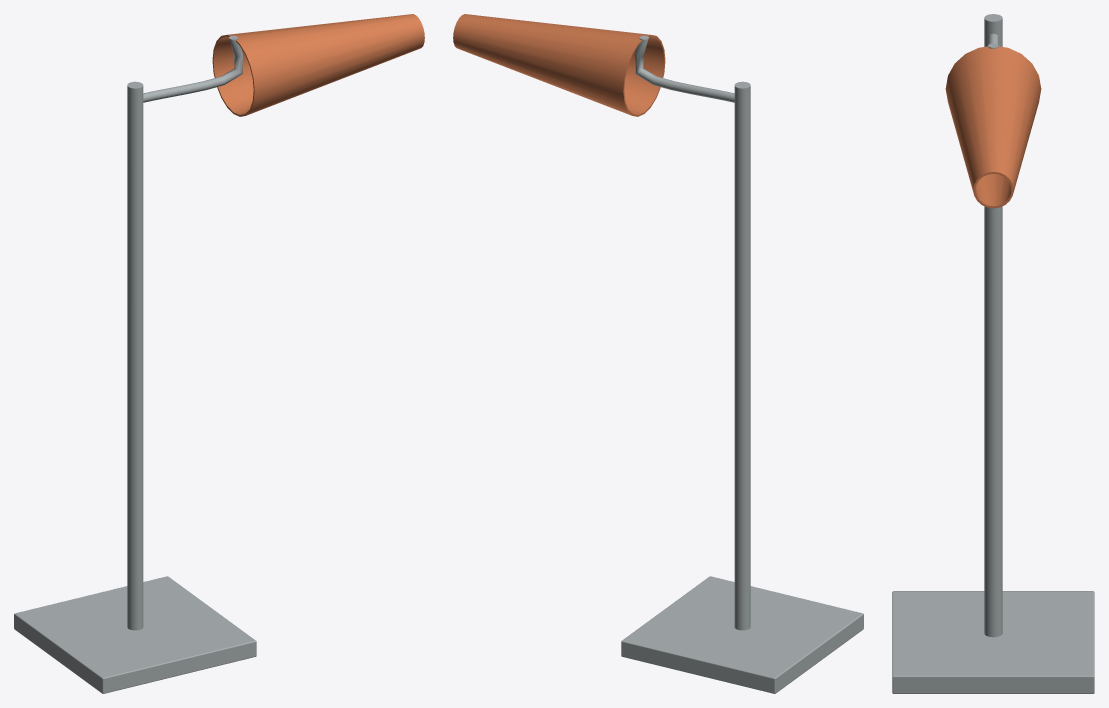
The model's file is extraction-routes-and-objectives-windsock-mast-d596bb40__22144.glb.
The picture shows the model from 3 angles, left to right: view 1: azimuth 30°, elevation 25°; view 2: azimuth 150°, elevation 25°; view 3: azimuth 270°, elevation 25°; orthographic projection. The views are drawn at different scales.
Parts seen in each view (by area): view 1: windsock-mast; view 2: windsock-mast; view 3: windsock-mast.
Boxes of the visible parts, left/top/right/bottom form: windsock-mast: left=14, top=14, right=424, bottom=693; windsock-mast: left=453, top=14, right=863, bottom=693; windsock-mast: left=892, top=14, right=1094, bottom=693.
Size of the model in its own units: 1.27 by 1.98 by 0.5499.
